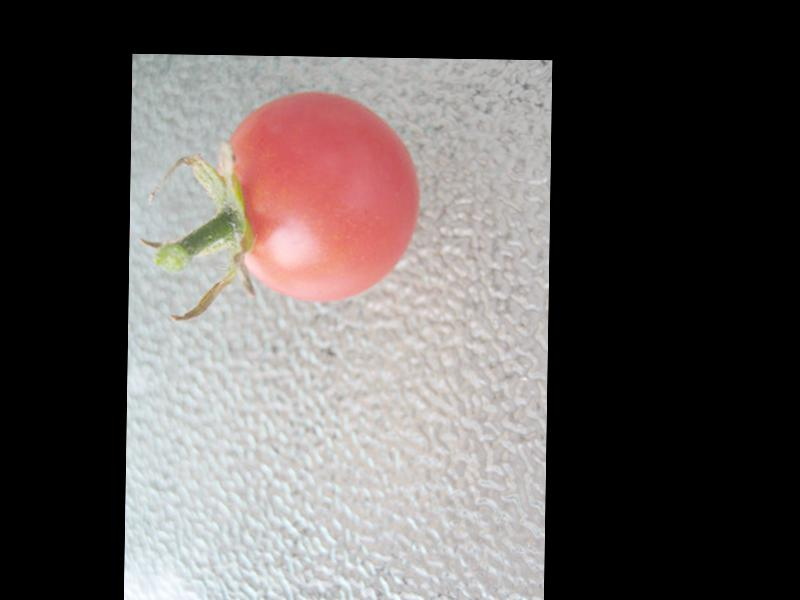Tomato: (225, 92, 422, 306)
